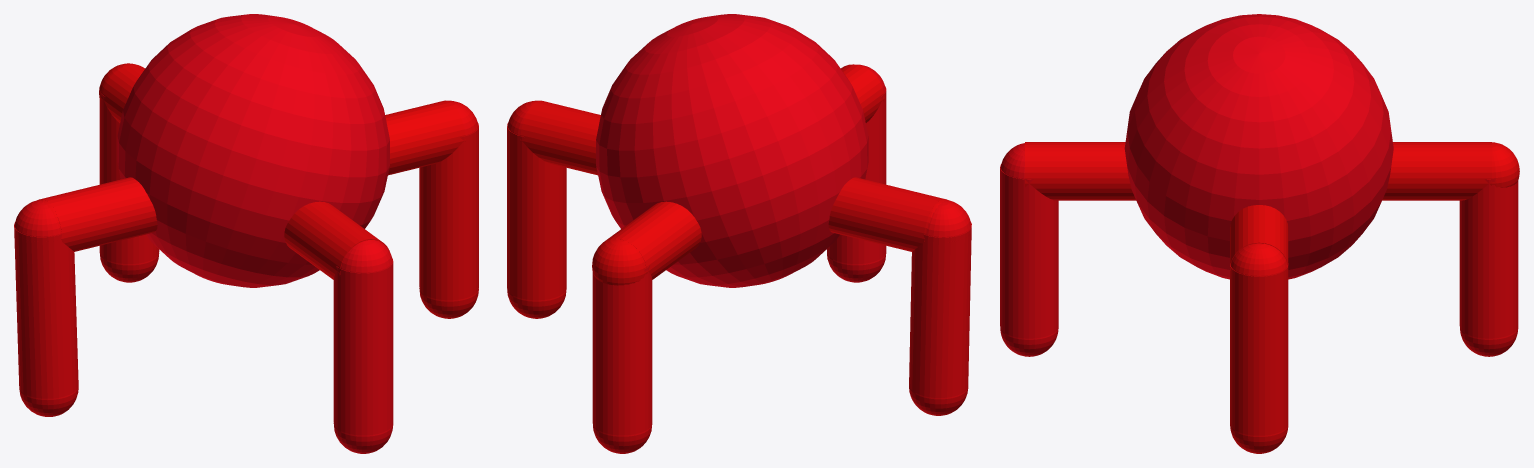
The model's file is ant.gltf.
3 renders of one model, left to right at view 1: azimuth 30°, elevation 25°; view 2: azimuth 150°, elevation 25°; view 3: azimuth 270°, elevation 25°, orthographic.
Parts seen in each view (by area): view 1: Sphere, Sphere.001, Sphere.004, Sphere.002, Limb1.003, Limb1.002, Limb1.001, Sphere.003, Limb1; view 2: Sphere, Sphere.004, Sphere.003, Sphere.002, Limb1, Limb1.003, Limb1.002, Sphere.001, Limb1.001; view 3: Sphere, Sphere.002, Sphere.001, Sphere.003, Limb1, Limb1.001, Limb1.002.
Part boxes in pixels (x1,y1,x2,y2): Sphere: (117, 14, 389, 287); Sphere.001: (333, 240, 393, 453); Sphere.004: (14, 200, 78, 416); Sphere.002: (419, 100, 478, 318); Limb1.003: (37, 177, 157, 251); Limb1.002: (385, 100, 465, 175); Limb1.001: (284, 201, 389, 279); Sphere.003: (99, 93, 159, 282); Limb1: (99, 63, 145, 122); Sphere: (596, 14, 868, 287); Sphere.004: (909, 200, 971, 415); Sphere.003: (592, 266, 652, 453); Sphere.002: (507, 100, 566, 318); Limb1: (592, 201, 701, 285); Limb1.003: (828, 177, 948, 251); Limb1.002: (520, 100, 600, 175); Sphere.001: (827, 64, 886, 282); Limb1.001: (840, 64, 884, 122); Sphere: (1124, 14, 1393, 279); Sphere.002: (1230, 243, 1288, 453); Sphere.001: (1000, 143, 1058, 356); Sphere.003: (1459, 179, 1518, 356); Limb1: (1382, 142, 1519, 200); Limb1.001: (1023, 142, 1135, 200); Limb1.002: (1230, 205, 1288, 270).
Bounding box in the file's own units: 2.27 × 1.6 × 2.28.
